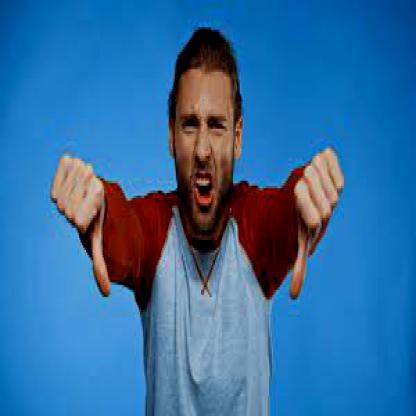Thumbs Down: (274, 103, 344, 309), (42, 145, 118, 308)
